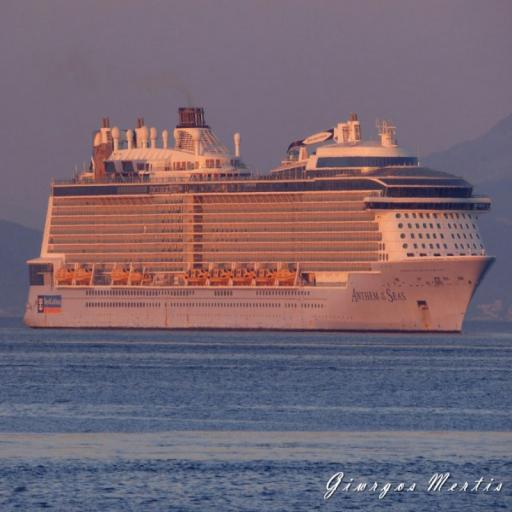cruises: (21, 103, 501, 337)
